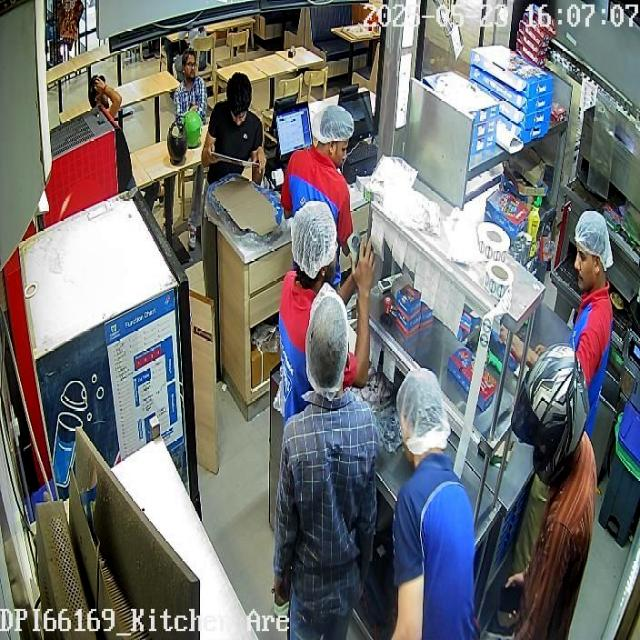helmet: (513, 340, 588, 488)
